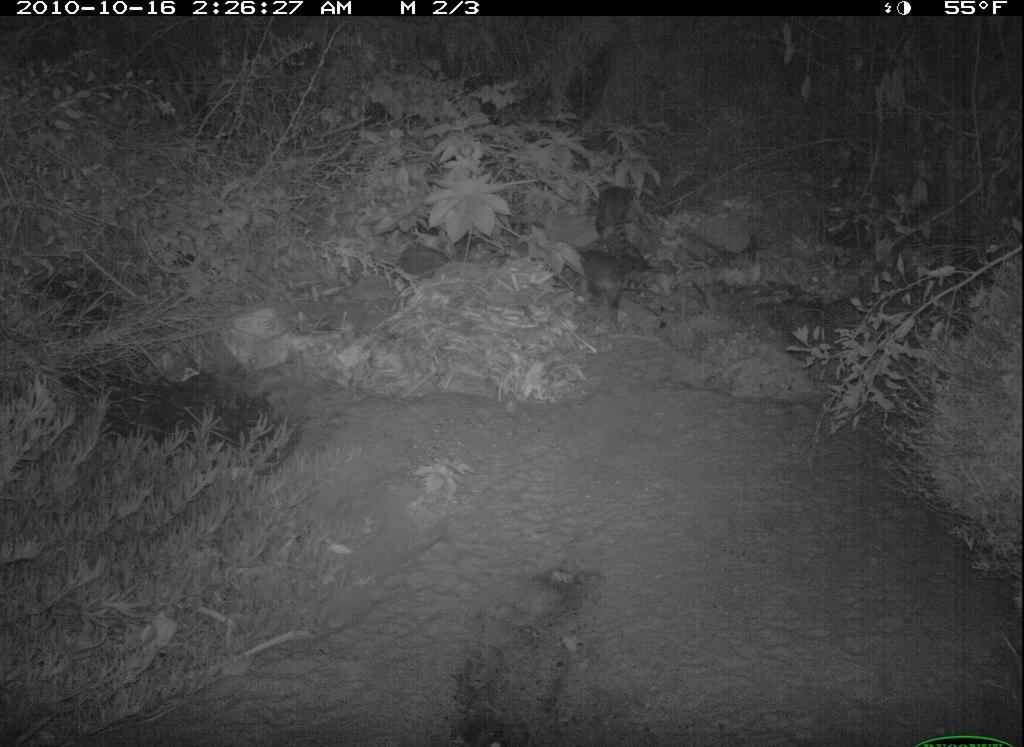raccoon: (559, 196, 669, 326)
